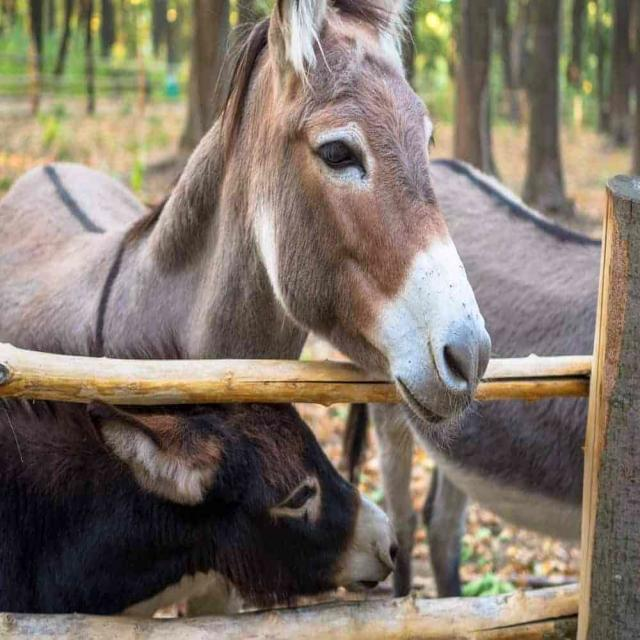donkey: (0, 0, 490, 422), (0, 399, 396, 614)
